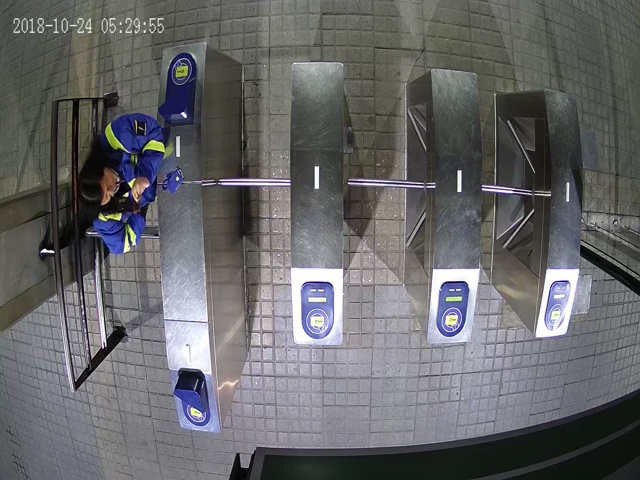Chaleco_azul: (79, 111, 168, 255)
